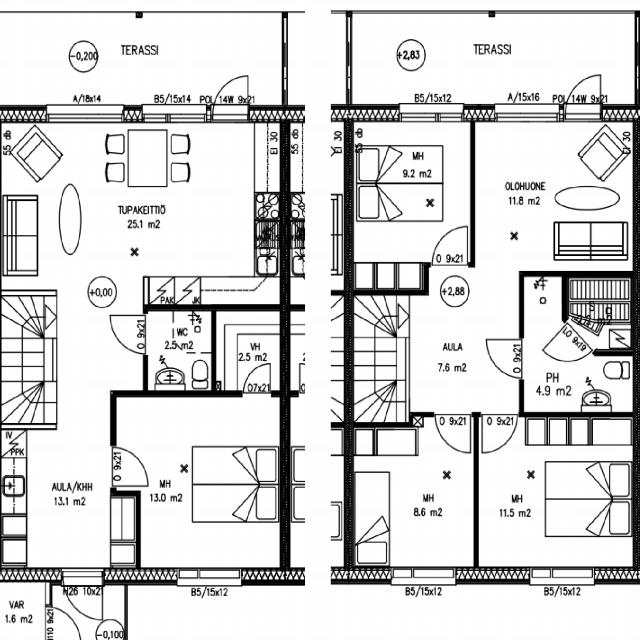door: (540, 319, 595, 379), (64, 567, 102, 627), (213, 67, 248, 123), (566, 66, 601, 122), (110, 447, 151, 486), (484, 339, 524, 378), (107, 316, 148, 354), (435, 412, 471, 455), (481, 412, 517, 455), (432, 224, 467, 267), (45, 606, 87, 640), (243, 361, 270, 397)
